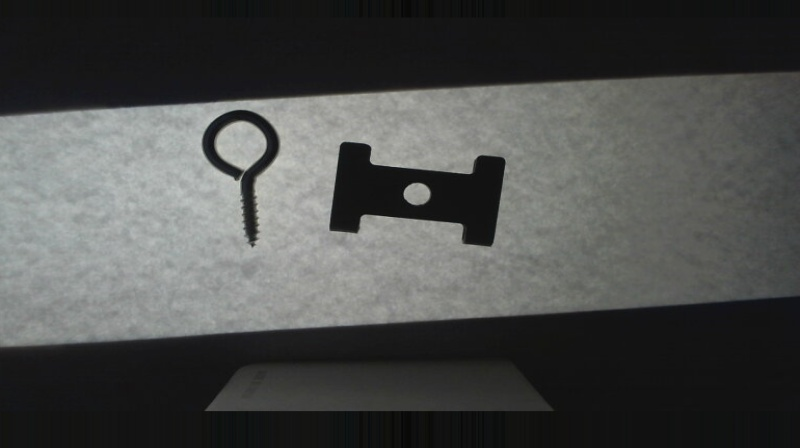O001: (200, 109, 283, 249)
O002: (330, 141, 505, 246)
